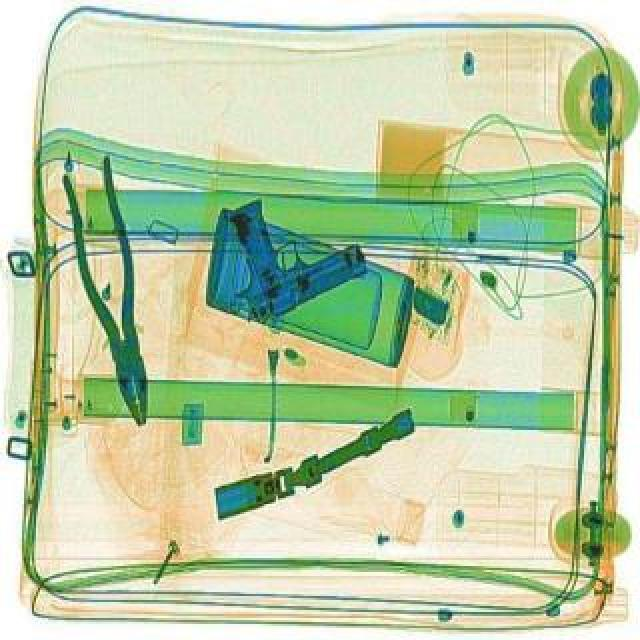gun: (196, 162, 372, 330)
wrench: (52, 150, 166, 428)
